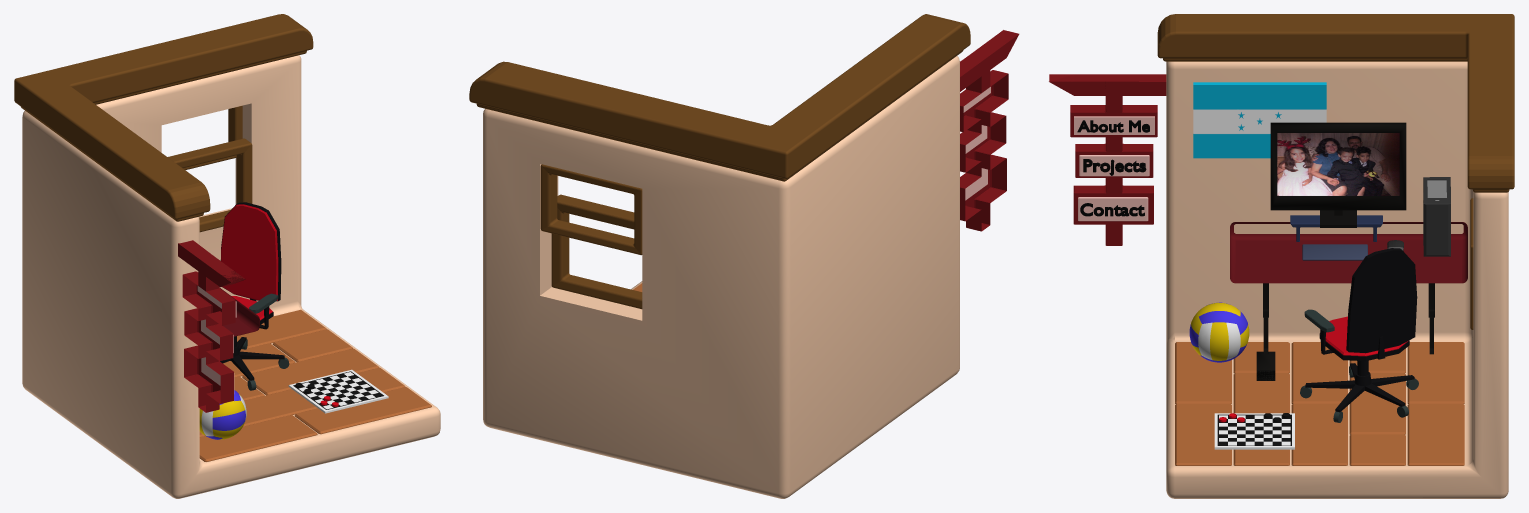
Rendered from Room_Portfolio.glb.
3 views of the same model, side by side, from view 1: azimuth 30°, elevation 25°; view 2: azimuth 150°, elevation 25°; view 3: azimuth 270°, elevation 25° (orthographic). The views are drawn at different scales.
Parts seen in each view (by area): view 1: room, Roof, floor, Sign, Cube.014_1, window1, Checkers Board, volleyball, deskt top, window2; view 2: room, Roof, Sign, window1, window2; view 3: room, floor, Roof, Plane.004, Cube.014_1, deskt top, Flag, Sign, volleyball, Checkers Board, PC_0, Contact (+10 smaller).
Part boxes in pixels (x1=…): room: x1=22, y1=55, x2=440, y2=498; Roof: x1=14, y1=14, x2=313, y2=221; floor: x1=199, y1=309, x2=431, y2=461; Sign: x1=178, y1=240, x2=245, y2=412; Cube.014_1: x1=220, y1=202, x2=289, y2=390; window1: x1=167, y1=138, x2=252, y2=232; Checkers Board: x1=288, y1=369, x2=388, y2=413; volleyball: x1=199, y1=390, x2=246, y2=439; deskt top: x1=220, y1=288, x2=259, y2=336; window2: x1=183, y1=105, x2=242, y2=169; room: x1=483, y1=56, x2=959, y2=498; Roof: x1=469, y1=14, x2=970, y2=181; Sign: x1=960, y1=30, x2=1019, y2=231; window1: x1=551, y1=194, x2=642, y2=309; window2: x1=540, y1=164, x2=642, y2=255; room: x1=1166, y1=61, x2=1508, y2=498; floor: x1=1175, y1=342, x2=1464, y2=465; Roof: x1=1157, y1=14, x2=1514, y2=192; Plane.004: x1=1270, y1=122, x2=1406, y2=227; Cube.014_1: x1=1300, y1=248, x2=1418, y2=422; deskt top: x1=1230, y1=222, x2=1467, y2=283; Flag: x1=1193, y1=82, x2=1326, y2=158; Sign: x1=1049, y1=74, x2=1166, y2=245; volleyball: x1=1189, y1=302, x2=1249, y2=362; Checkers Board: x1=1214, y1=413, x2=1294, y2=449; PC_0: x1=1423, y1=177, x2=1450, y2=256; Contact: x1=1078, y1=197, x2=1148, y2=221.
Bounding box in the file's own units: 6.22 × 6.6 × 8.15.
31 materials, 2 textured.
